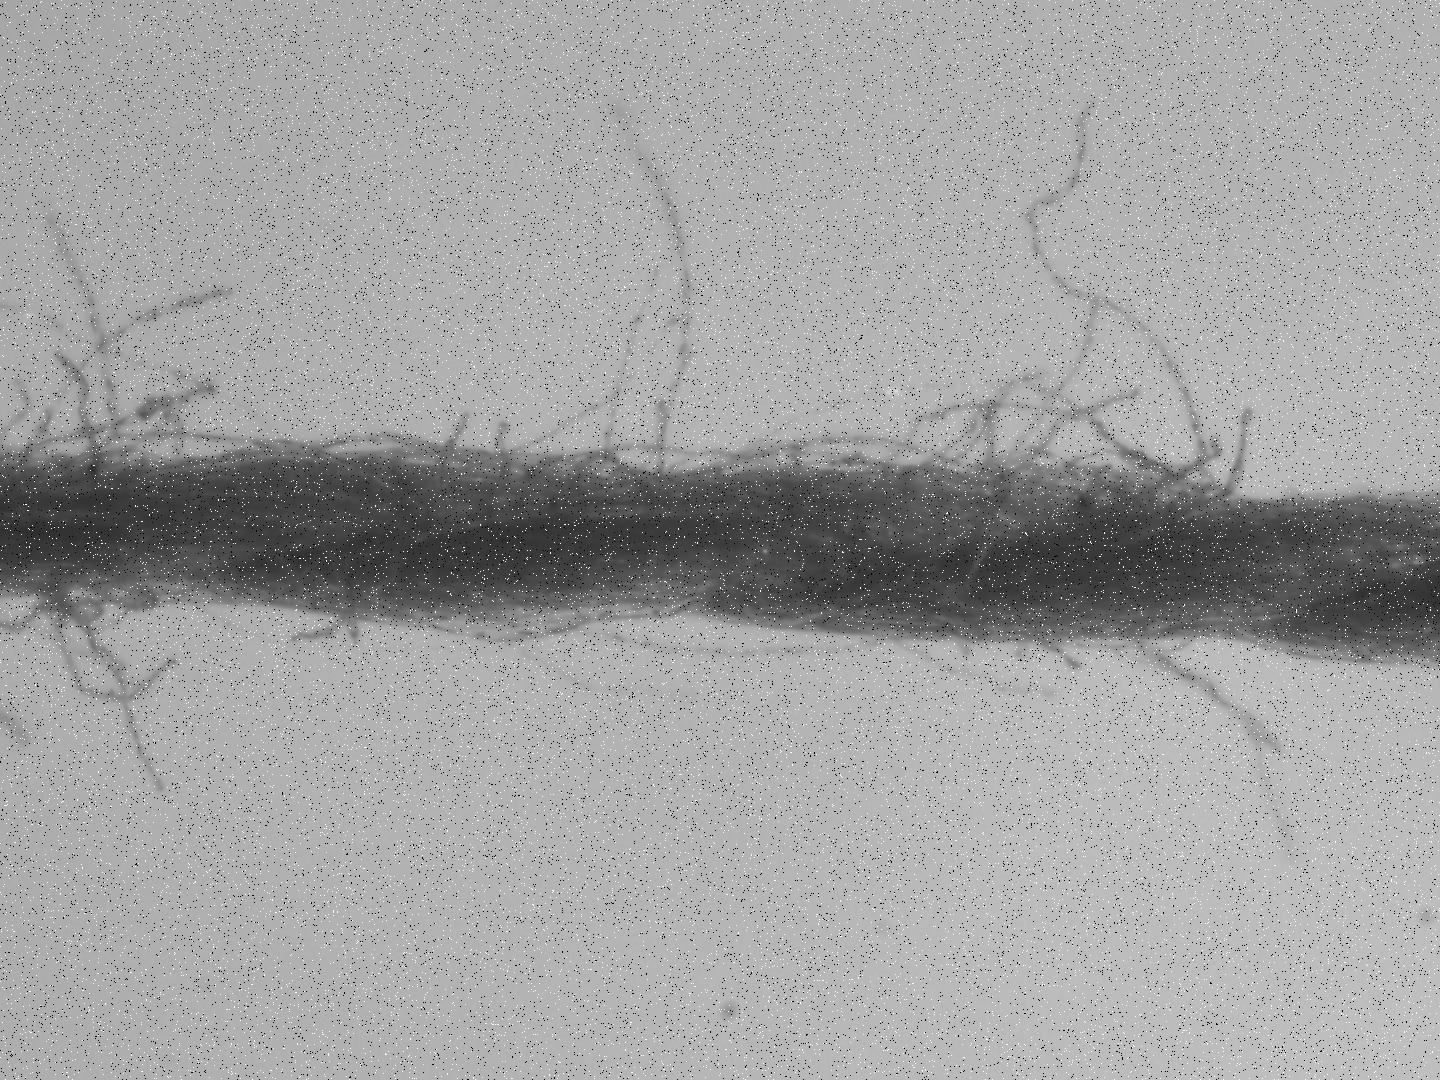loop_fiber: (717, 379, 1171, 499), (0, 580, 183, 708), (560, 608, 886, 658)
protruding_fiber: (1024, 98, 1218, 484), (1129, 634, 1295, 870), (27, 285, 239, 458), (609, 95, 697, 473), (42, 209, 120, 446), (993, 312, 1099, 462), (595, 263, 664, 457), (888, 636, 1065, 693), (51, 343, 92, 464), (1219, 404, 1255, 500)
